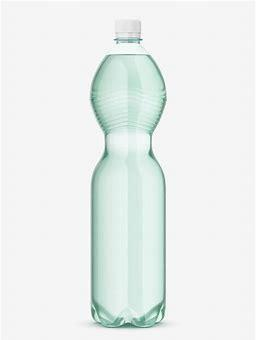bottle: (87, 19, 165, 327)
